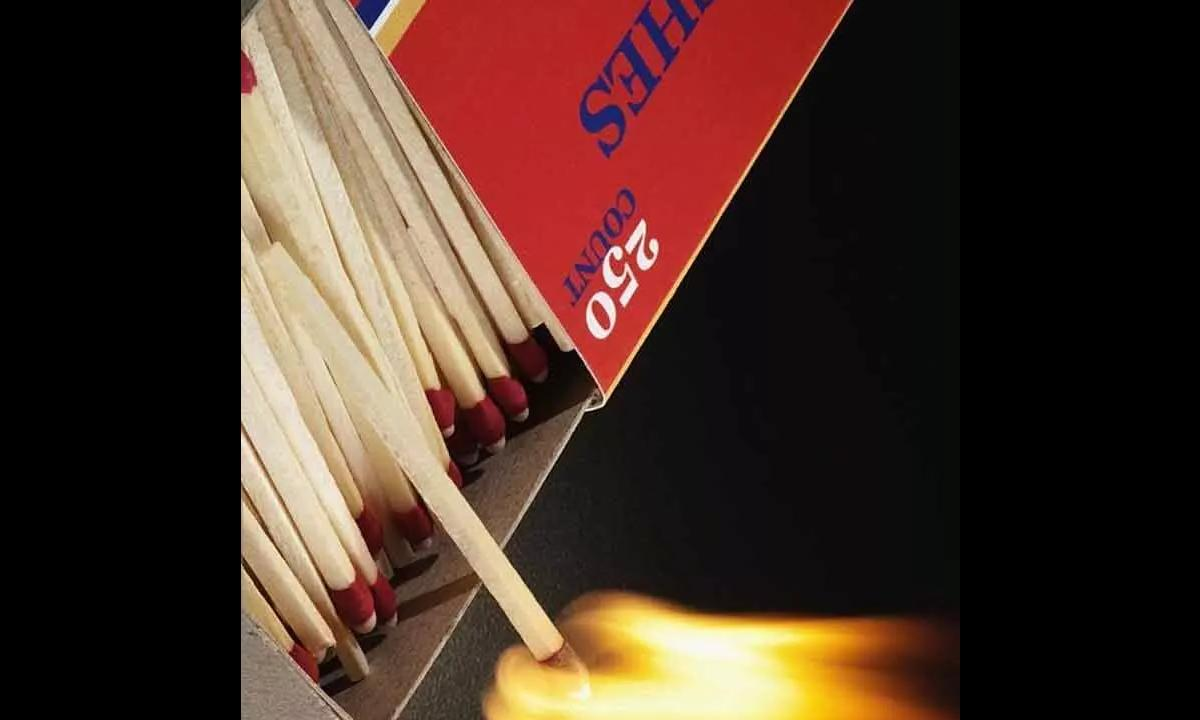controlled_fire: (424, 481, 960, 720)
